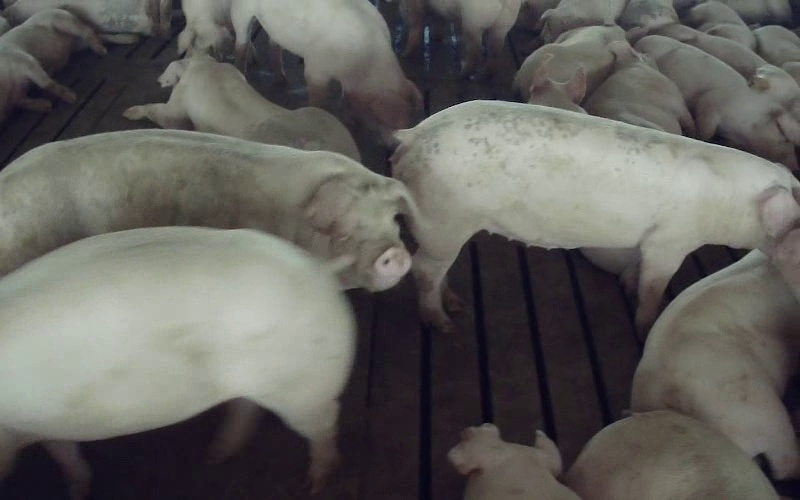pig: (393, 101, 799, 332), (632, 227, 799, 478), (231, 0, 420, 140), (123, 55, 359, 159), (636, 35, 799, 169), (565, 411, 778, 499), (648, 23, 799, 121), (0, 9, 105, 123), (584, 41, 693, 134), (513, 25, 645, 100), (687, 0, 755, 49), (753, 25, 799, 84)
